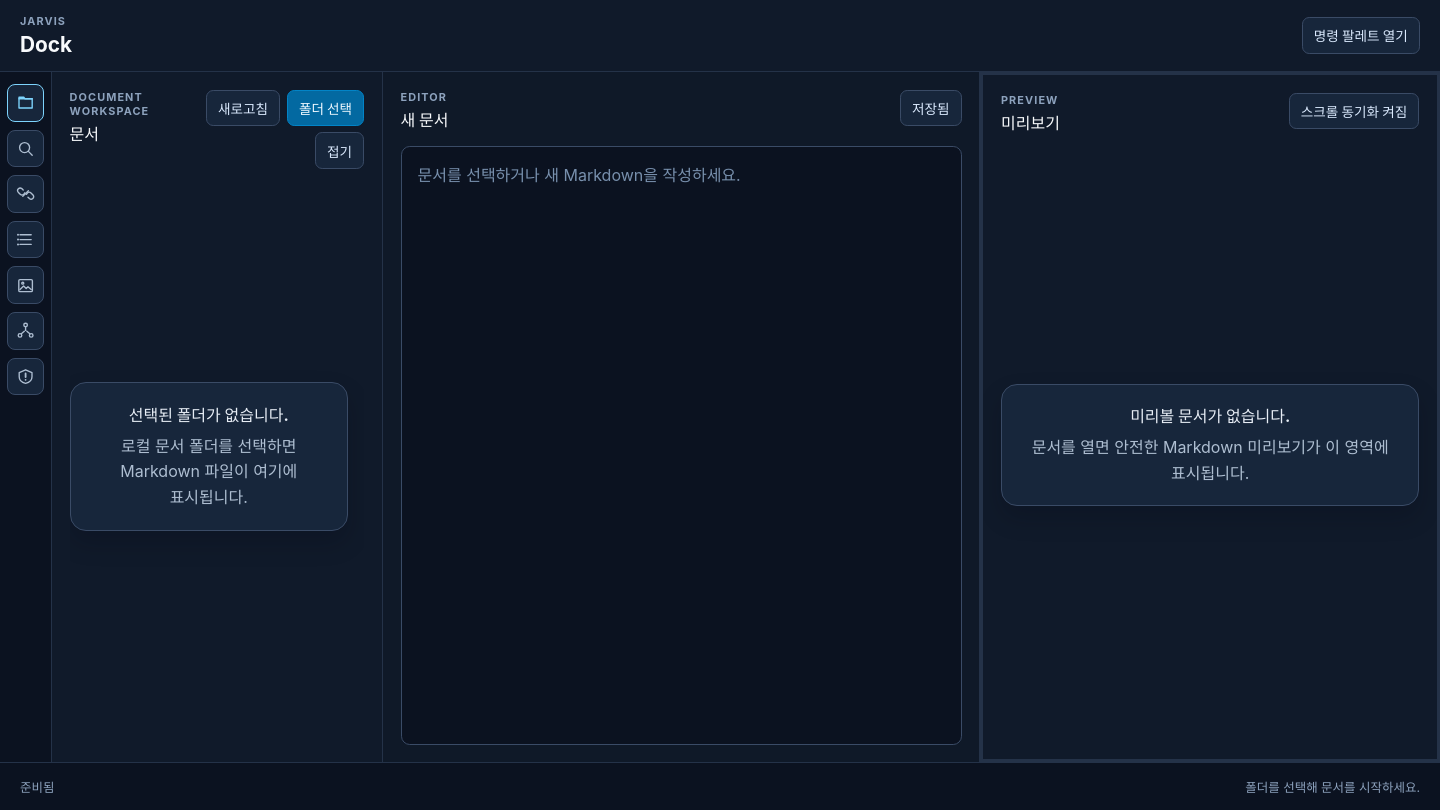
Test: App › opens image search when the editor image command suggestion is clicked
Step 1. Type "/image" into the text box named "Markdown 편집기" → (681, 445), box [400,146,962,745]
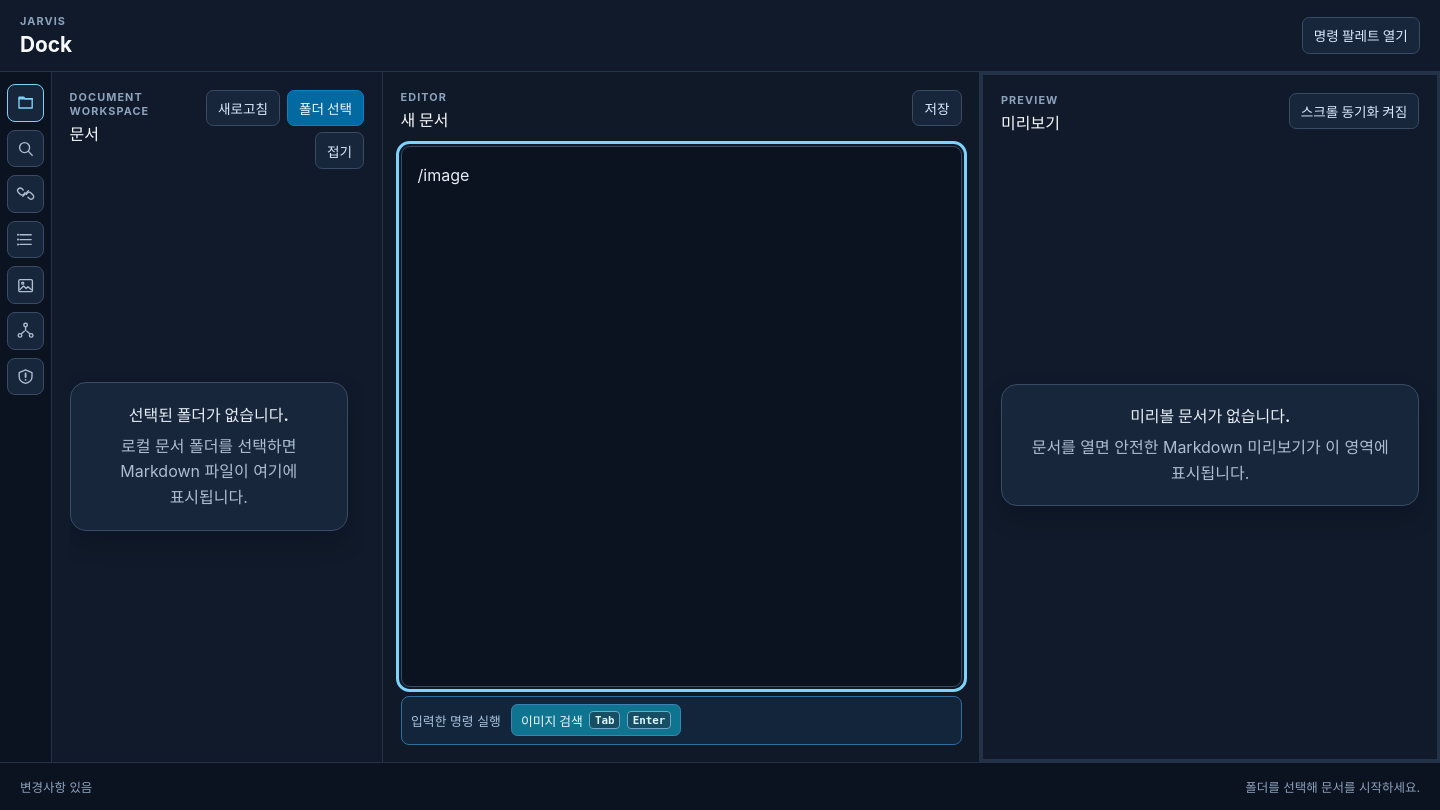
Step 2. Click the button "이미지 검색 Tab Enter" → (596, 720), box [511,704,681,736]
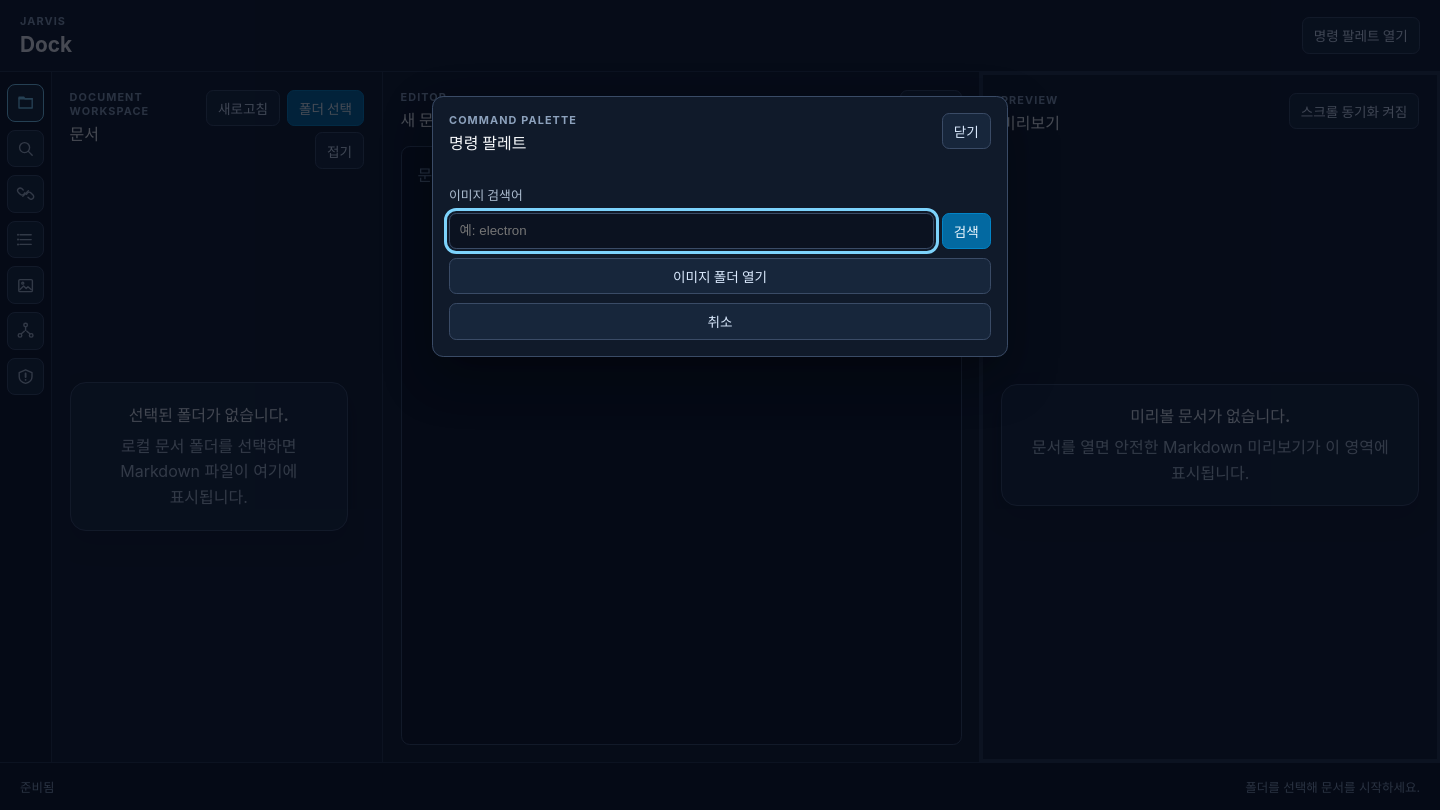
Expected: the field labelled "이미지 검색어" is shown, [449,213,934,249]
Expected: the text box named "Markdown 편집기" is empty, [400,146,962,745]
